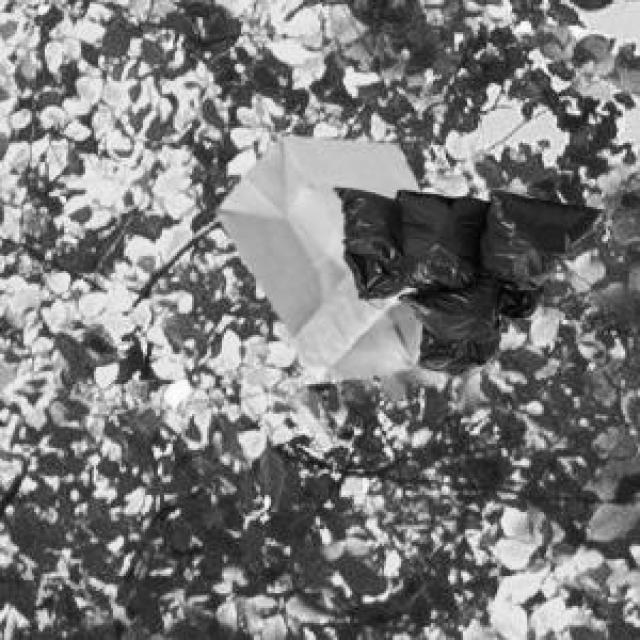miscellaneous trash: (331, 184, 597, 373)
paper: (213, 132, 418, 378)
